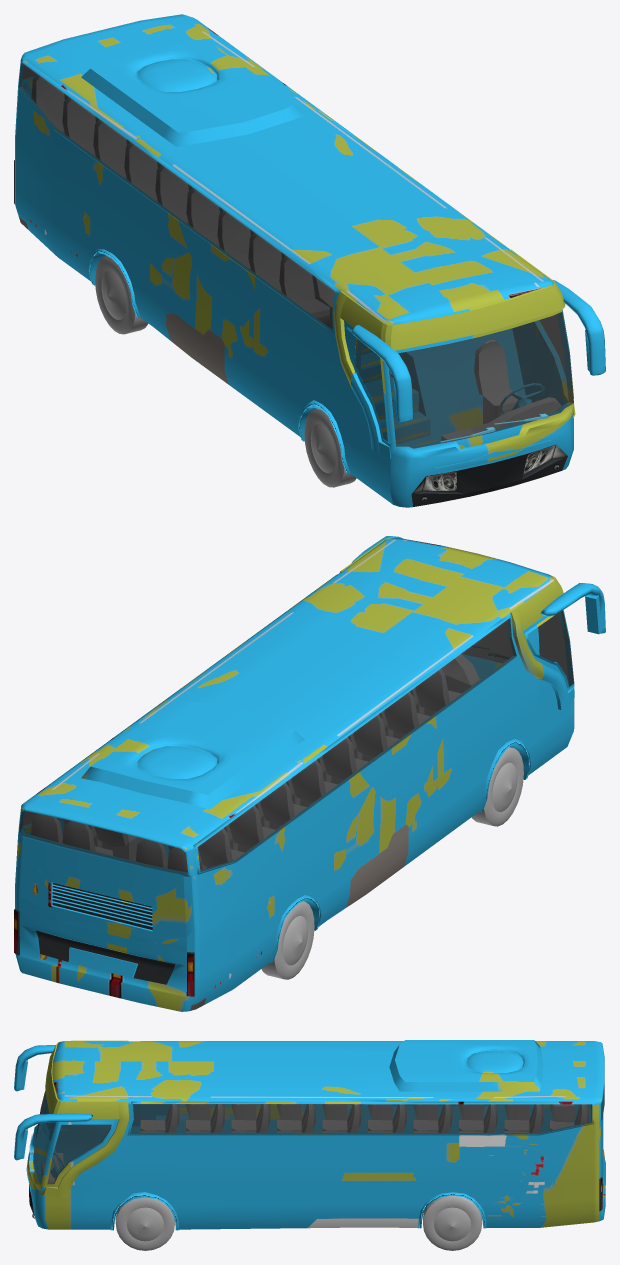
The model's file is Bus_08_v2.fbx.
3 renders of one model, top to bottom at view 1: azimuth 30°, elevation 25°; view 2: azimuth 150°, elevation 25°; view 3: azimuth 270°, elevation 25°, orthographic. The views are drawn at different scales.
Parts seen in each view (by area): view 1: Bus_8body, Bus_8_Glass, Bus_8_Door, FR, RR, Bus_8_DoorGlass; view 2: Bus_8body, Bus_8_Glass, Bus_8_Door, RR, FR, Bus_8_DoorGlass; view 3: Bus_8body, Bus_8_Glass, RL, FL, Bus_8_Door.
Part boxes in pixels (box(x1,y1,x2,y2)): Bus_8body: box(14, 14, 605, 507); Bus_8_Glass: box(18, 63, 573, 448); Bus_8_Door: box(351, 338, 392, 504); FR: box(304, 408, 356, 487); RR: box(95, 255, 148, 334); Bus_8_DoorGlass: box(355, 338, 387, 441); Bus_8body: box(14, 536, 605, 1011); Bus_8_Glass: box(18, 614, 567, 875); Bus_8_Door: box(534, 611, 574, 770); RR: box(261, 901, 314, 979); FR: box(471, 747, 523, 826); Bus_8_DoorGlass: box(538, 610, 573, 686); Bus_8body: box(14, 1040, 605, 1230); Bus_8_Glass: box(33, 1084, 604, 1184); RL: box(423, 1196, 482, 1250); FL: box(115, 1197, 174, 1250); Bus_8_Door: box(46, 1109, 96, 1164).
Bounding box in the file's own units: 256 × 255 × 857.
